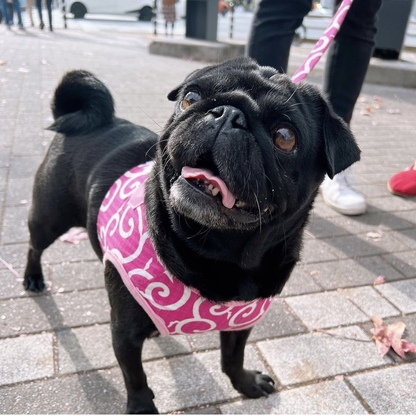Pug: (20, 54, 368, 416)
